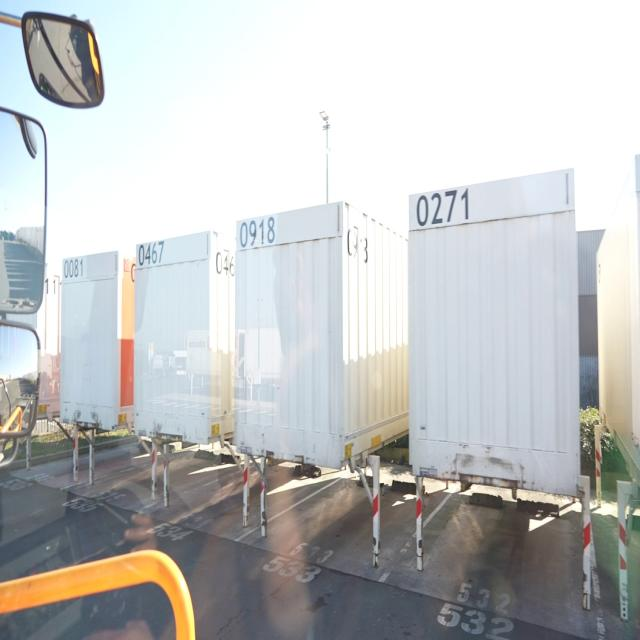Code: (410, 184, 472, 233), (236, 214, 277, 257), (136, 238, 170, 265), (61, 250, 87, 282)
